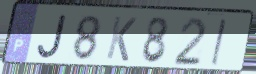2: (173, 16, 208, 67)
8: (72, 14, 104, 62), (142, 16, 172, 66)
I: (209, 17, 228, 67)
J: (36, 13, 69, 60)
K: (104, 14, 139, 63)
